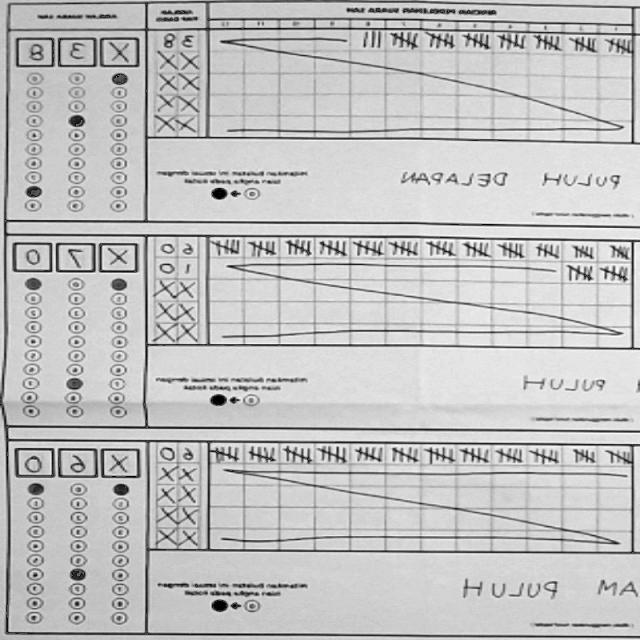Suara: (12, 236, 143, 275), (12, 442, 145, 478), (16, 32, 143, 66)
